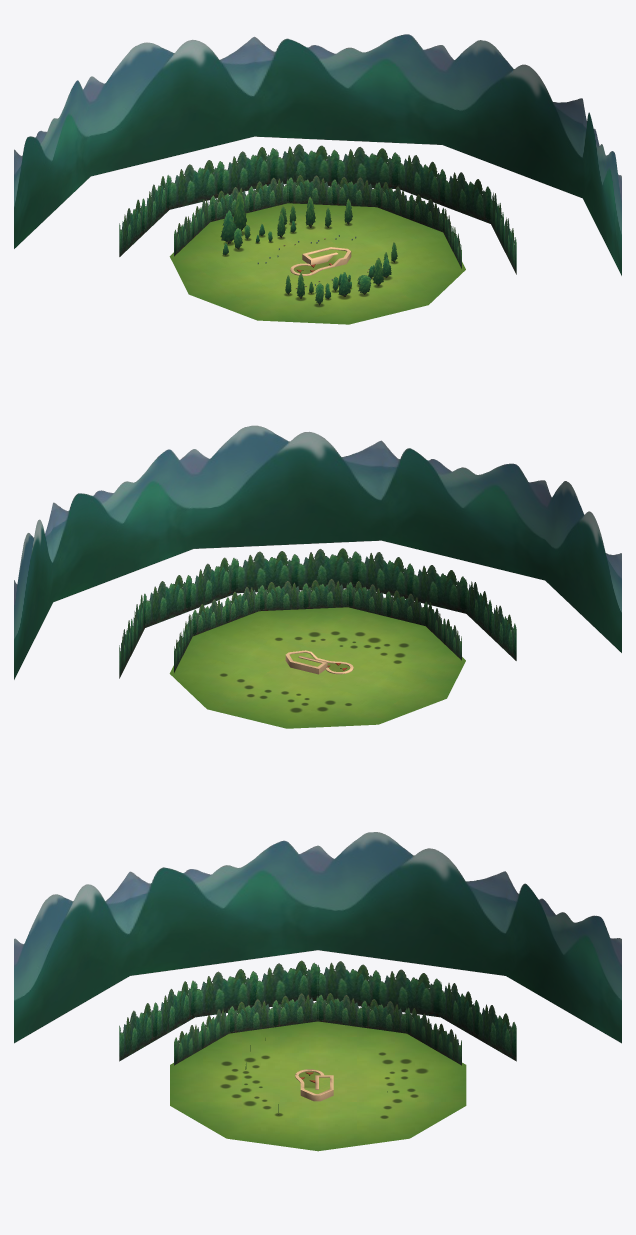
File: hole6.glb
The picture shows the model from 3 angles, top to bottom: view 1: azimuth 30°, elevation 25°; view 2: azimuth 150°, elevation 25°; view 3: azimuth 270°, elevation 25°; orthographic projection. The views are drawn at different scales.
Parts seen in each view (by area): view 1: background1, grass_base, background3, background2, edges1; view 2: background1, grass_base, background3, background2, edges1; view 3: background1, grass_base, background3, background2, edges1.
Boxes of the visible parts, x1,y1,x2,y2 form: background1: (14, 34, 621, 275); grass_base: (169, 203, 465, 324); background3: (119, 144, 516, 274); background2: (174, 175, 461, 268); edges1: (290, 247, 351, 276); background1: (14, 425, 621, 679); grass_base: (169, 607, 465, 728); background3: (119, 548, 516, 678); background2: (174, 579, 461, 672); edges1: (285, 650, 353, 674); background1: (14, 832, 621, 1043); grass_base: (170, 1021, 466, 1151); background3: (119, 960, 516, 1061); background2: (174, 993, 461, 1065); edges1: (295, 1069, 333, 1101).
Size of what is drawn, in the model's own units: 347 by 78.81 by 330.
10 materials, 9 textured.
